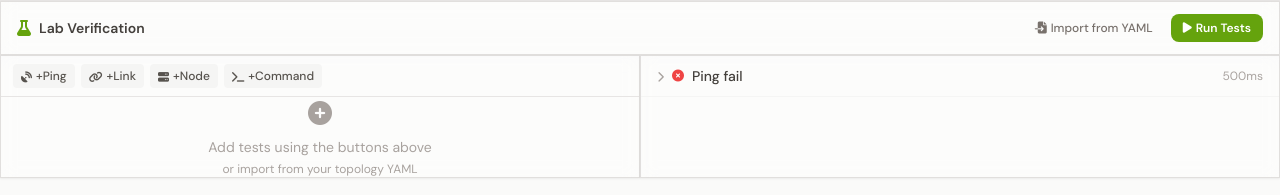
VerificationPanel › Results list › renders failed result with error details
// Details are collapsed by default — click to expand
Click the text "Ping fail": (717, 76) left=692, top=66, right=743, bottom=86
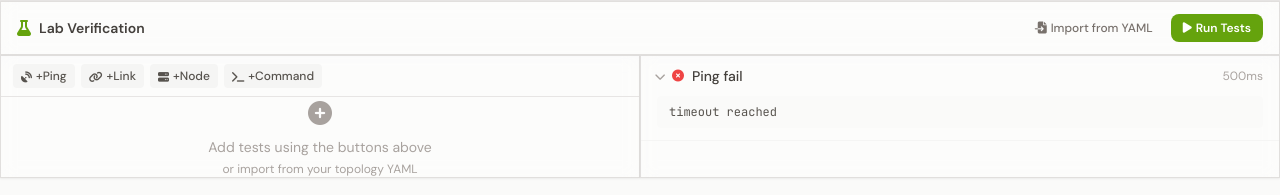
Result: the text "timeout reached" is shown at left=657, top=96, right=1263, bottom=128
